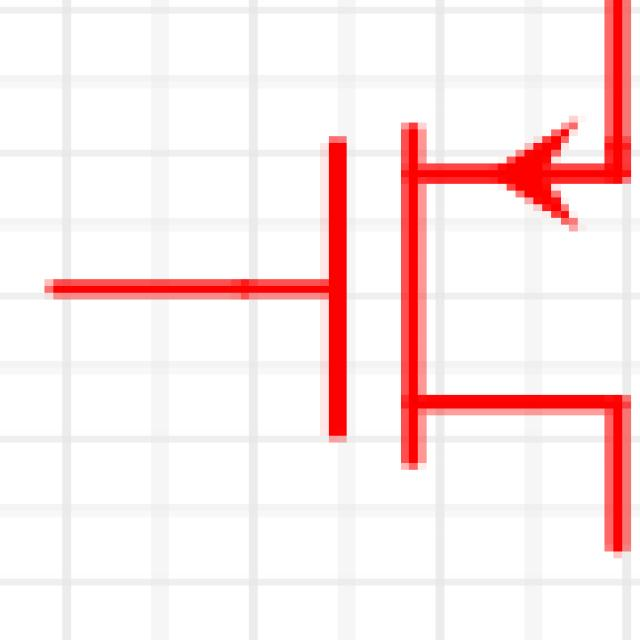pmos: (49, 26, 640, 513)
